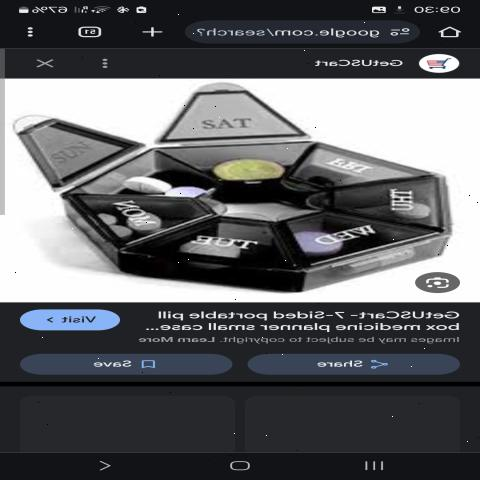PillBox: (30, 84, 458, 295)
